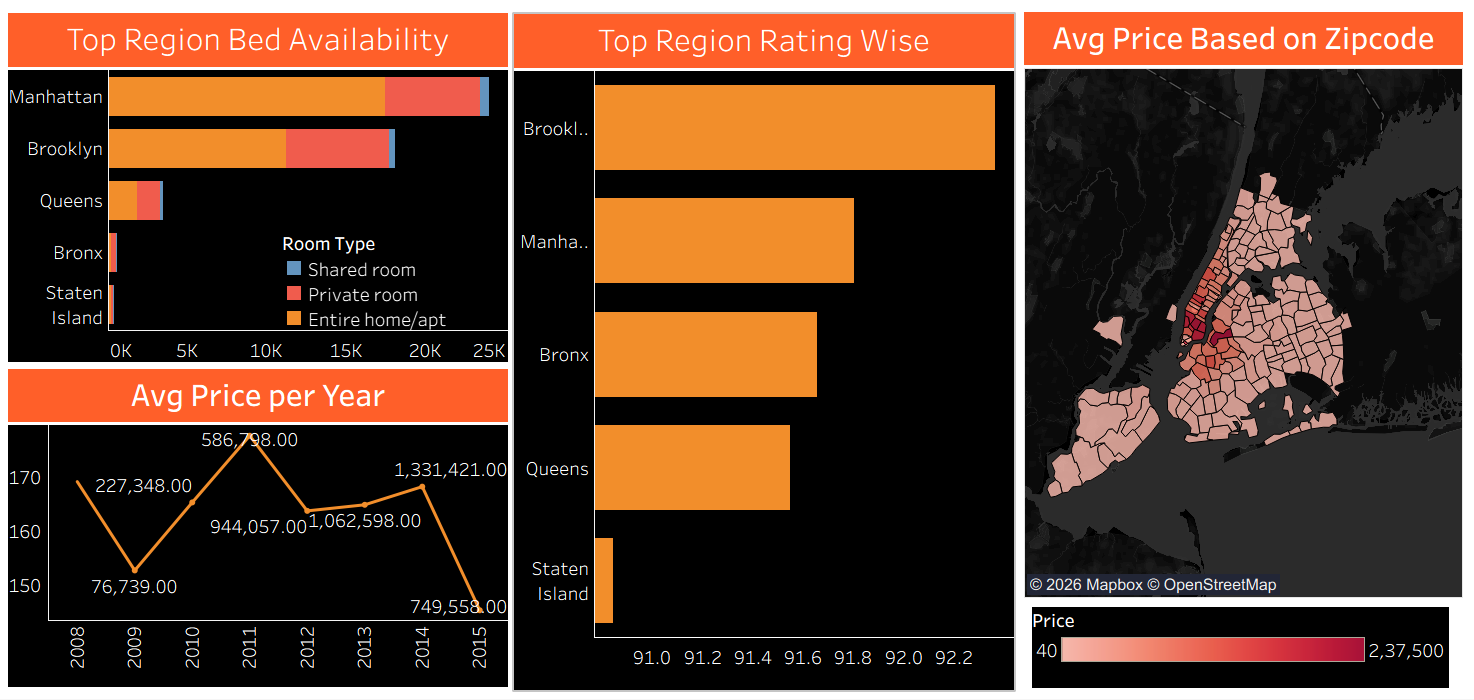

What the dashboard file says about the page in this screenshot:
{"tool":"tableau","page":{"name":"Dashboard 1","canvas":[1500,700],"ordinal":0},"visuals":[{"type":"worksheet","title":"Avg Price Based on Zipcode","mark":"Automatic","box":[1034,13,439,586]},{"type":"worksheet","title":"Top Region Bed Availability","mark":"Automatic","rows":["Neighbourhood"],"cols":["Beds"],"box":[18,14,500,349]},{"type":"worksheet","title":"Top Region Rating Wise","mark":"Automatic","rows":["Neighbourhood"],"cols":["Review Scores Rating"],"box":[524,15,500,676]},{"type":"legend","title":"Top Region Bed Availability","param":"[federated.1wla6p71025js815fud2s17niw1v].[none:Room Type:nk]","box":[292,231,170,101]},{"type":"worksheet","title":"Avg Price per Year","mark":"Line","rows":["Price"],"cols":["Host Since"],"box":[18,370,500,318]},{"type":"legend","title":"Avg Price Based on Zipcode","param":"[federated.1wla6p71025js815fud2s17niw1v].[sum:Price:qk]","box":[1042,608,417,81]}]}

Visuals, with their boxes in screenshot pixels (x1, y1, x2, y2), scaled from the page's 1500x700 canvas onto the 1474x700 screenshot:
"Avg Price Based on Zipcode" worksheet: 1016/13/1447/599
"Top Region Bed Availability" worksheet: 18/14/509/363
"Top Region Rating Wise" worksheet: 515/15/1006/691
"Top Region Bed Availability" legend: 287/231/454/332
"Avg Price per Year" worksheet (Line marks): 18/370/509/688
"Avg Price Based on Zipcode" legend: 1024/608/1434/689
